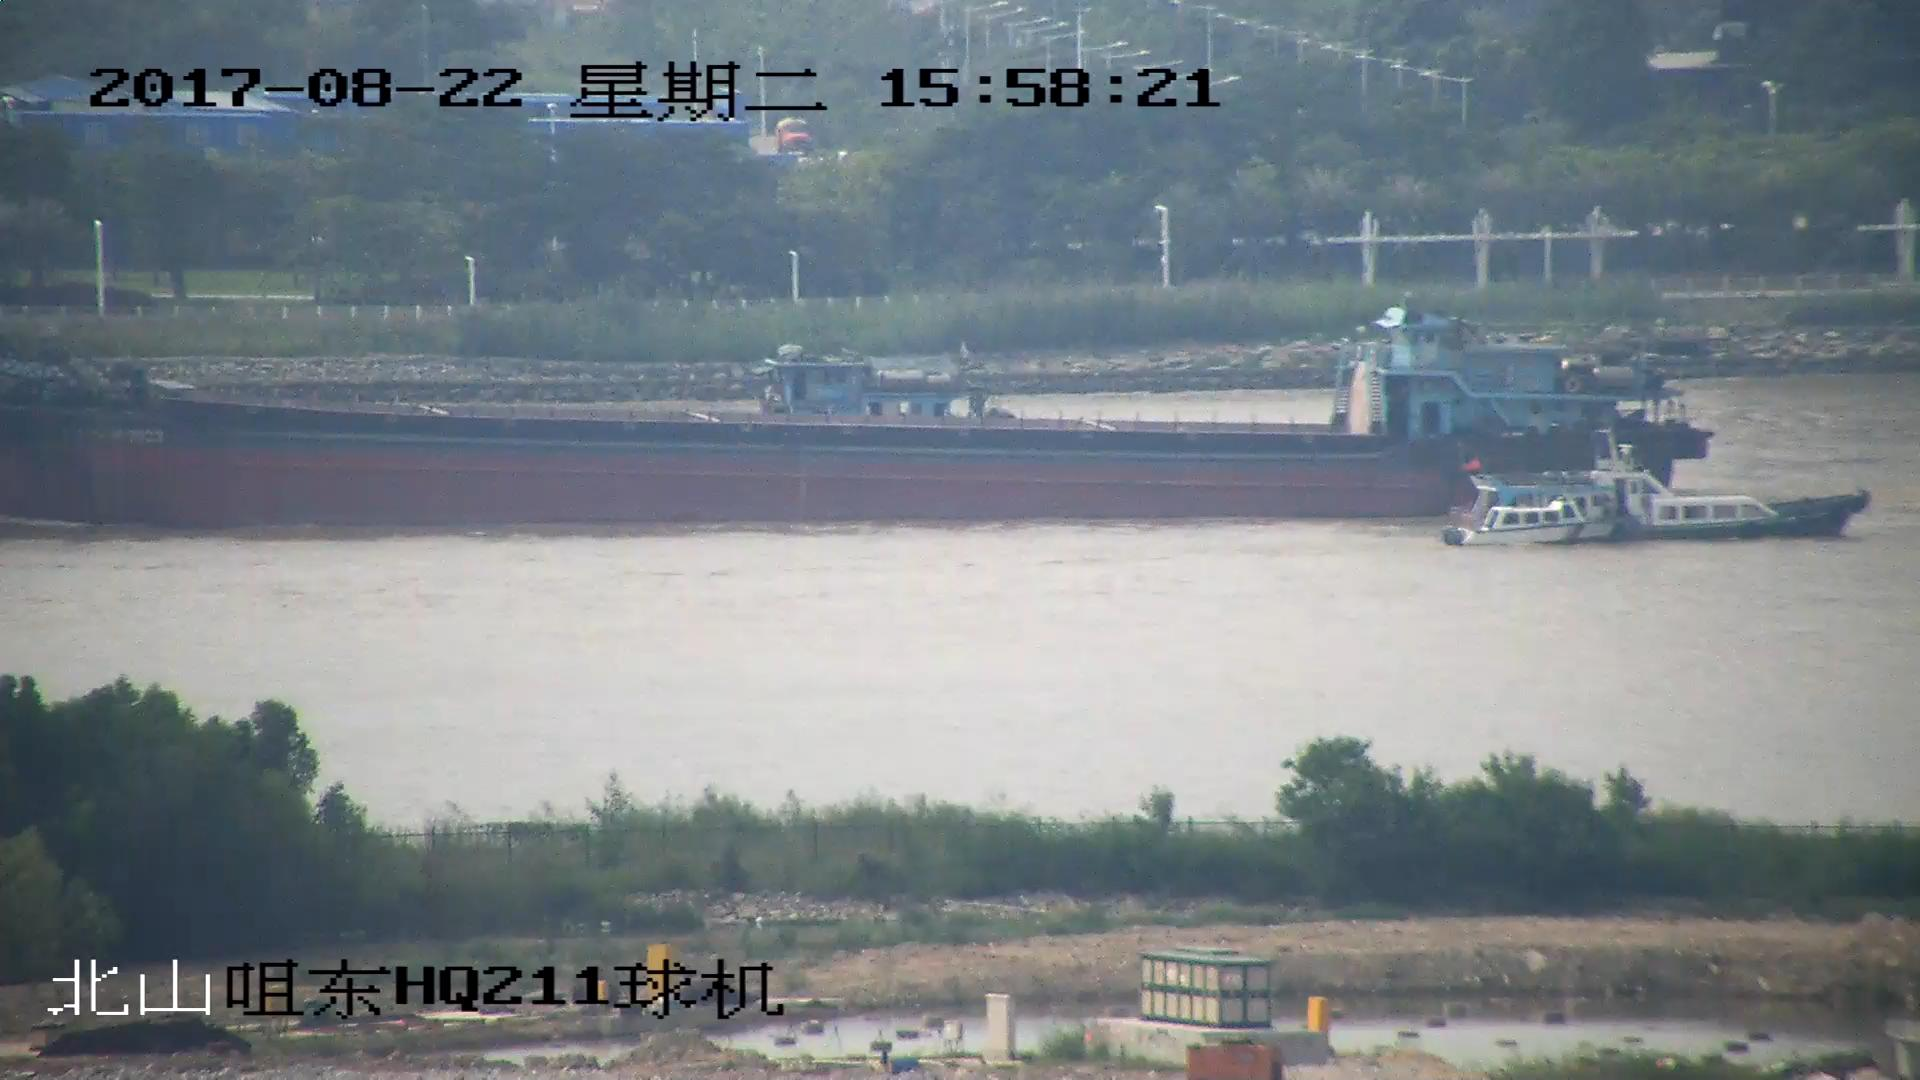bulk cargo carrier: (1, 304, 1719, 514)
fishing boat: (1444, 454, 1878, 548)
